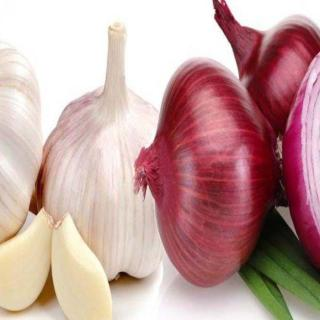Bawang Merah: (2, 3, 320, 319), (133, 57, 285, 289), (36, 21, 165, 283)
